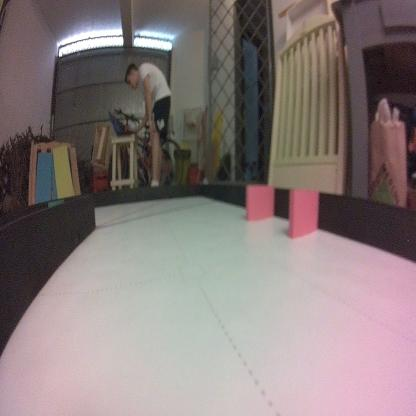magenta: (288, 188, 320, 239), (244, 181, 273, 220)
